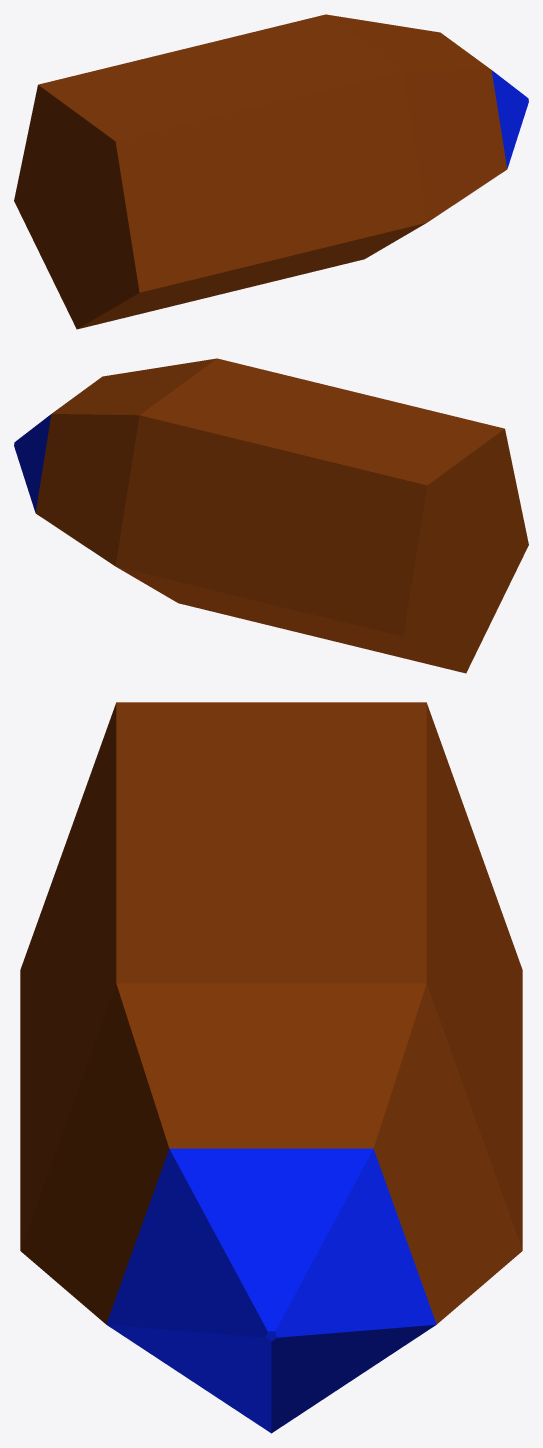
File: Winchester bullet blue.FBX
3 renders of one model, top to bottom at view 1: azimuth 30°, elevation 25°; view 2: azimuth 150°, elevation 25°; view 3: azimuth 270°, elevation 25°, orthographic. The views are drawn at different scales.
Parts seen in each view (by area): view 1: Bullet, Bullet tip; view 2: Bullet, Bullet tip; view 3: Bullet, Bullet tip.
Part boxes in pixels (x1=…): Bullet: x1=14, y1=14, x2=507, y2=329; Bullet tip: x1=491, y1=70, x2=528, y2=168; Bullet: x1=35, y1=358, x2=528, y2=673; Bullet tip: x1=14, y1=414, x2=51, y2=512; Bullet: x1=20, y1=702, x2=522, y2=1324; Bullet tip: x1=106, y1=1148, x2=436, y2=1433.
Bounding box in the file's own units: 9.68 × 4.44 × 4.67.
